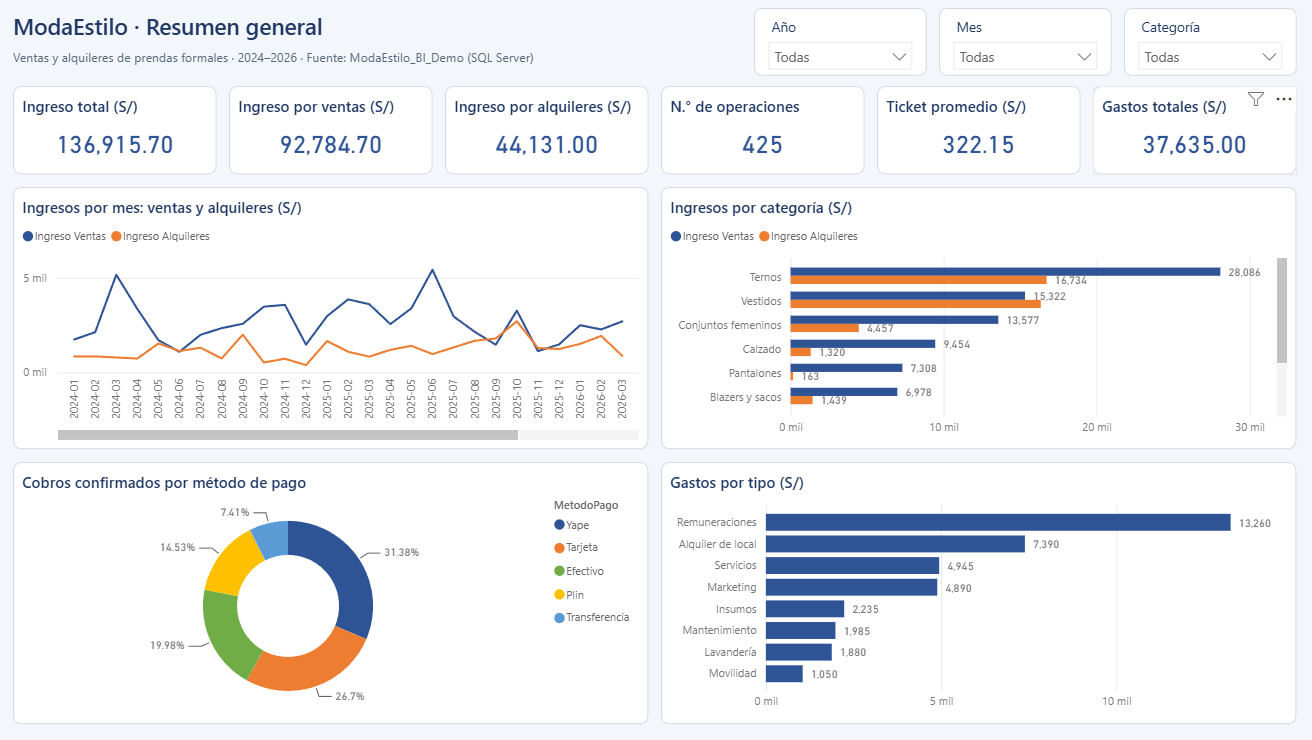

Layout of this report page (visuals, bound fields, positions):
{"tool":"powerbi","page":{"name":"Resumen general","canvas":[1280,720],"ordinal":0},"visuals":[{"type":"textbox","box":[16,10,720,36],"z":1000},{"type":"textbox","box":[16,46,720,22],"z":2000},{"type":"slicer","fields":{"Values":["DimFecha.Anio"]},"box":[736,8,168,66],"z":3000},{"type":"slicer","fields":{"Values":["DimFecha.MesNombre"]},"box":[916,8,168,66],"z":4000},{"type":"slicer","fields":{"Values":["DimArticulo.Categoria"]},"box":[1096,8,168,66],"z":5000},{"type":"card","title":"Ingreso total (S/)","fields":{"Values":["FactVenta.Ingreso Total"]},"box":[16,84,198,86],"z":6000},{"type":"card","title":"Ingreso por ventas (S/)","fields":{"Values":["FactVenta.Ingreso Ventas"]},"box":[226,84,198,86],"z":7000},{"type":"card","title":"Ingreso por alquileres (S/)","fields":{"Values":["FactAlquiler.Ingreso Alquileres"]},"box":[436,84,198,86],"z":8000},{"type":"card","title":"N.° de operaciones","fields":{"Values":["FactVenta.Número de Operaciones"]},"box":[646,84,198,86],"z":9000},{"type":"card","title":"Ticket promedio (S/)","fields":{"Values":["FactVenta.Ticket Promedio"]},"box":[856,84,198,86],"z":10000},{"type":"card","title":"Gastos totales (S/)","fields":{"Values":["FactGasto.Gastos Totales"]},"box":[1066,84,198,86],"z":11000},{"type":"lineChart","title":"Ingresos por mes: ventas y alquileres (S/)","fields":{"Category":["DimFecha.AnioMes"],"Y":["FactVenta.Ingreso Ventas","FactAlquiler.Ingreso Alquileres"]},"box":[16,182,618,255],"z":12000},{"type":"clusteredBarChart","title":"Ingresos por categoría (S/)","fields":{"Category":["DimArticulo.Categoria"],"Y":["FactVenta.Ingreso Ventas","FactAlquiler.Ingreso Alquileres"]},"box":[646,182,618,255],"z":13000},{"type":"donutChart","title":"Cobros confirmados por método de pago","fields":{"Category":["FactPago.MetodoPago"],"Y":["FactPago.Cobros Confirmados"]},"box":[16,449,618,255],"z":14000},{"type":"clusteredBarChart","title":"Gastos por tipo (S/)","fields":{"Category":["FactGasto.TipoGasto"],"Y":["FactGasto.Gastos Totales"]},"box":[646,449,618,255],"z":15000}]}

Visuals, with their boxes in screenshot pixels (x1, y1, x2, y2), scaled from the page's 1280x720 canvas onto the 1312x740 screenshot:
textbox: 16/10/754/47
textbox: 16/47/754/70
slicer - DimFecha.Anio: 754/8/927/76
slicer - DimFecha.MesNombre: 939/8/1111/76
slicer - DimArticulo.Categoria: 1123/8/1296/76
"Ingreso total (S/)" card: 16/86/219/175
"Ingreso por ventas (S/)" card: 232/86/435/175
"Ingreso por alquileres (S/)" card: 447/86/650/175
"N.° de operaciones" card: 662/86/865/175
"Ticket promedio (S/)" card: 877/86/1080/175
"Gastos totales (S/)" card: 1093/86/1296/175
"Ingresos por mes: ventas y alquileres (S/)" lineChart: 16/187/650/449
"Ingresos por categoría (S/)" clusteredBarChart: 662/187/1296/449
"Cobros confirmados por método de pago" donutChart: 16/461/650/724
"Gastos por tipo (S/)" clusteredBarChart: 662/461/1296/724
